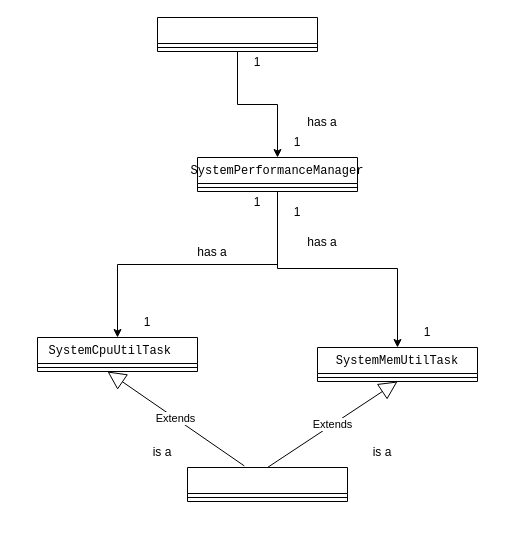
Image size: 524x542. Some labels were removed from this diagram. The box of each missing label's shape, as (x1, y1, x2, y2) in pixels:
BaseSystemUtilTask: (186, 466, 348, 502)
ConstrainedDeviceApp: (156, 16, 318, 52)
